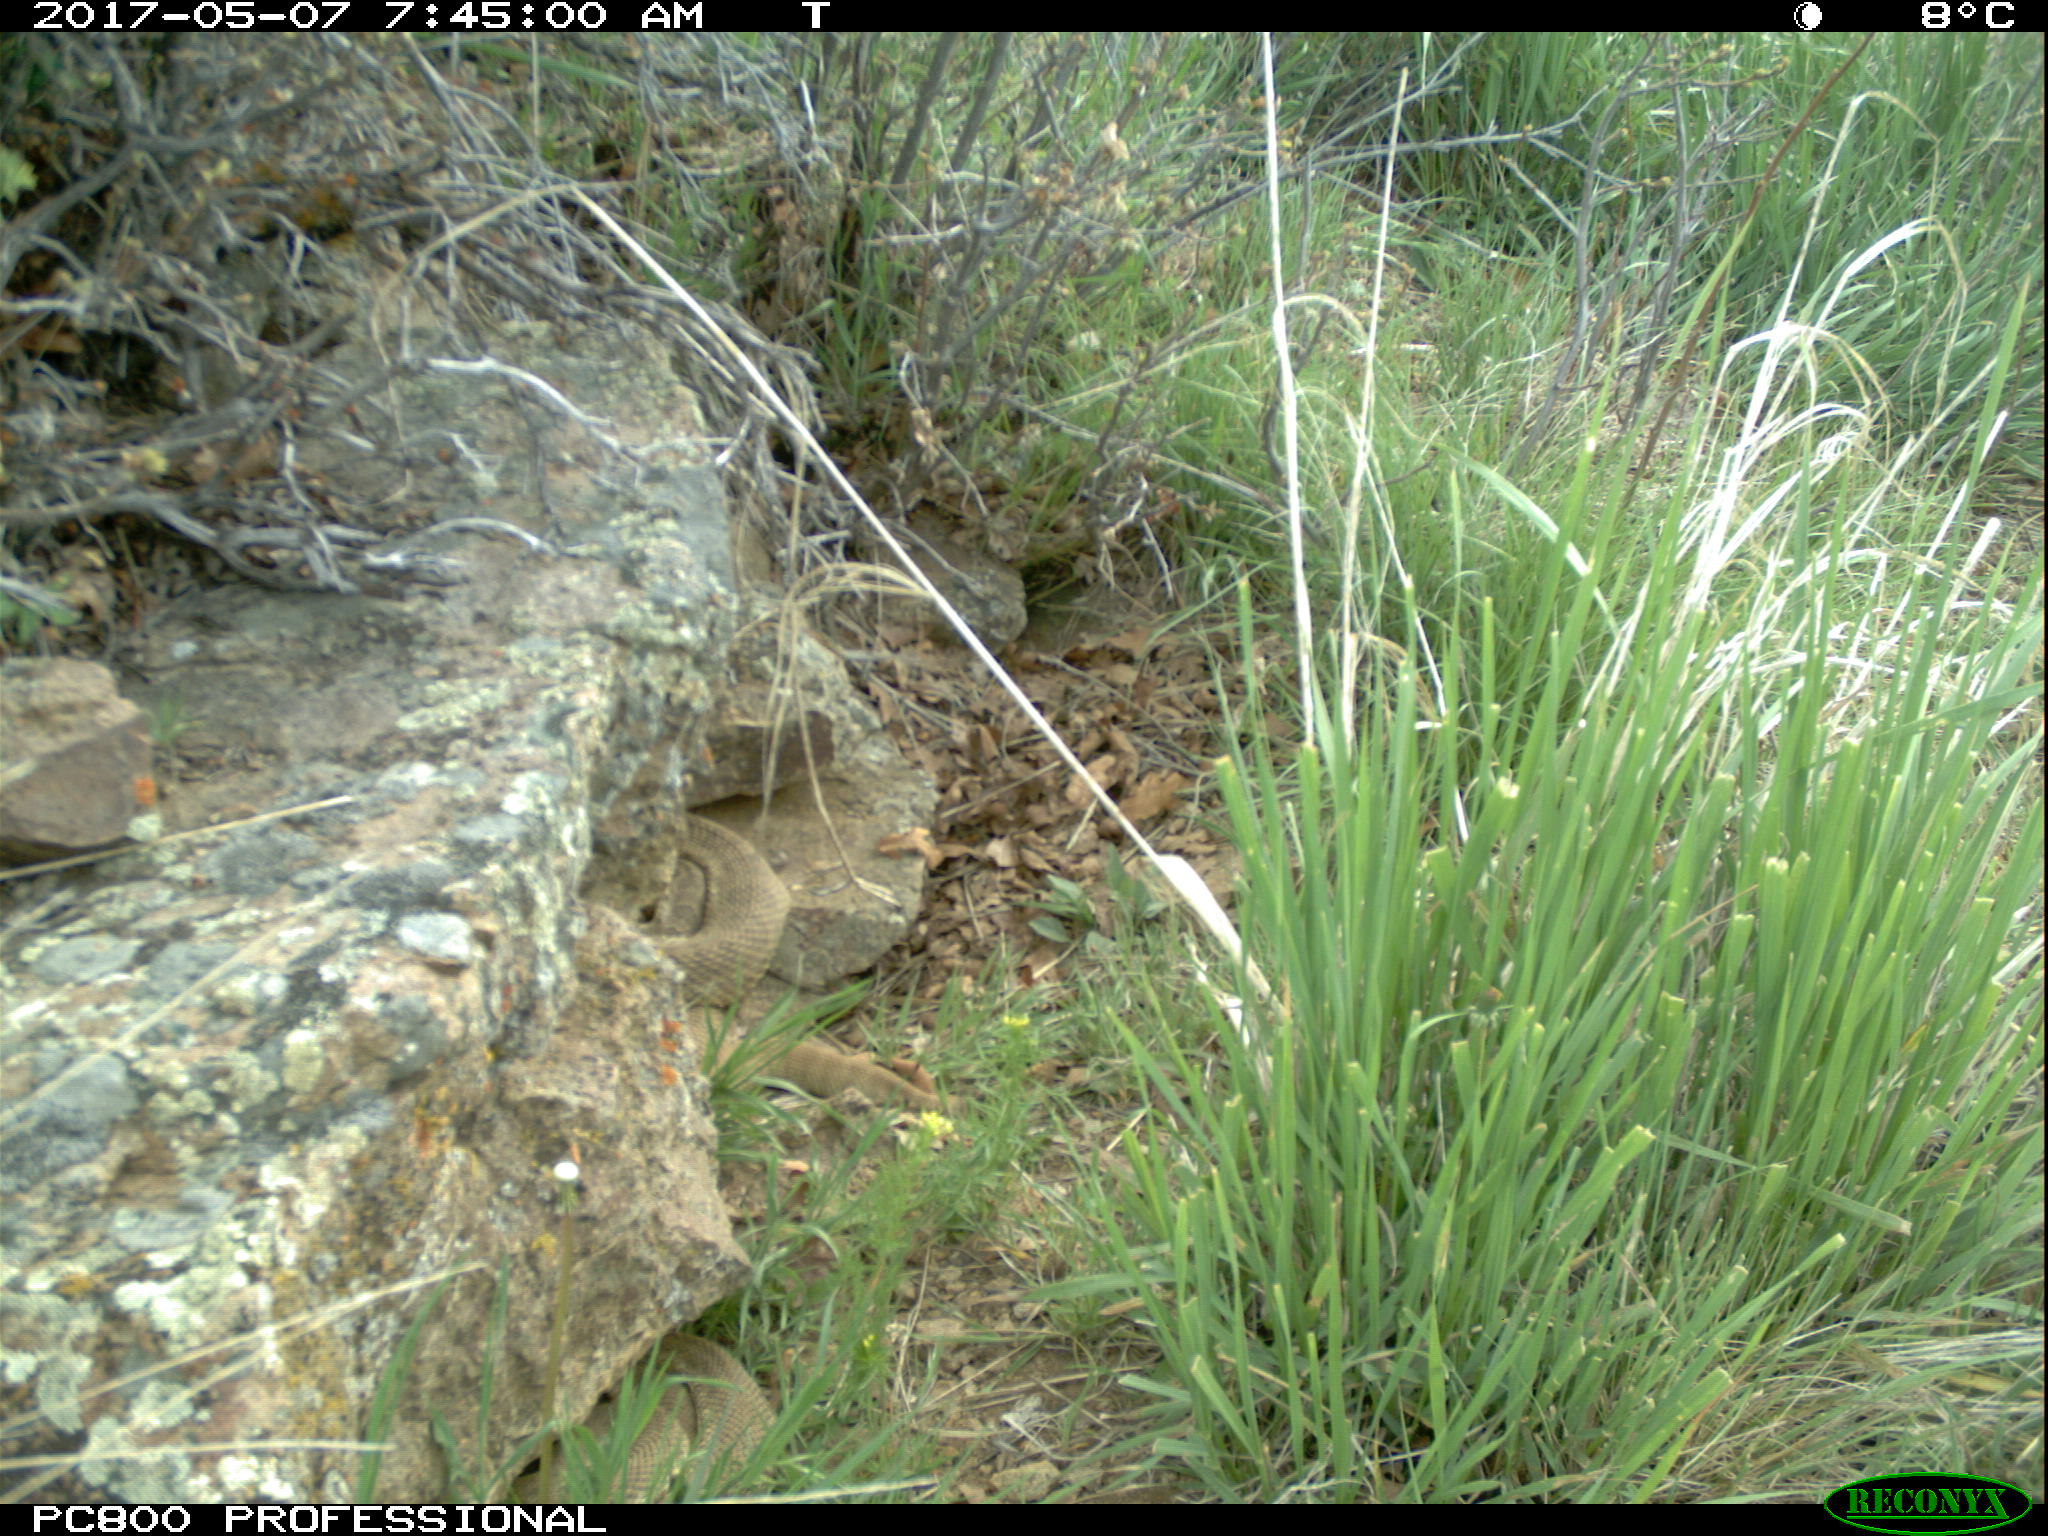snake: (564, 1333, 771, 1499), (672, 812, 792, 1008), (721, 1025, 968, 1118)
